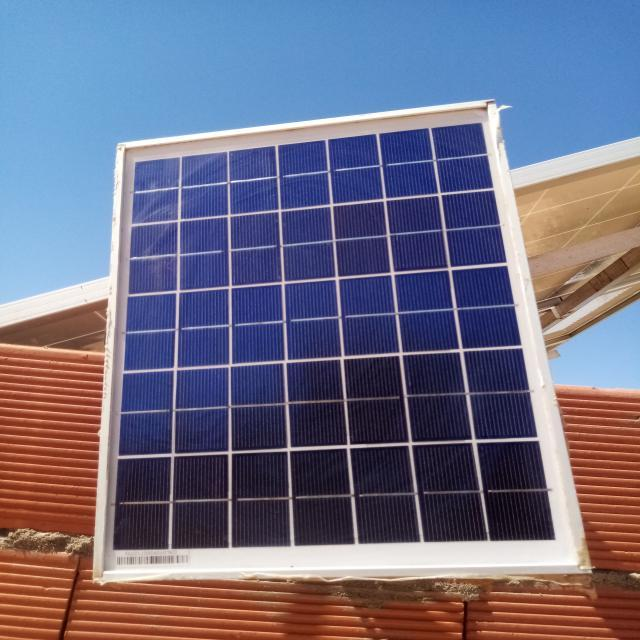no faulty: (103, 100, 583, 575)
